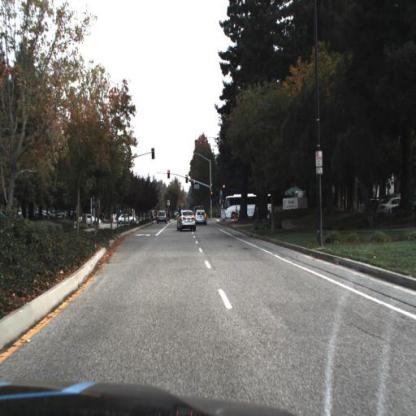car: (379, 197, 408, 216), (178, 211, 197, 233), (80, 215, 102, 228), (121, 215, 138, 226), (157, 211, 167, 227), (197, 209, 206, 225)
pedestrian: (242, 202, 247, 218)
trafficLight-Red: (223, 184, 227, 193), (186, 174, 189, 185)
trafficLight-RedLeft: (168, 169, 171, 179)
truck: (222, 196, 272, 225)
